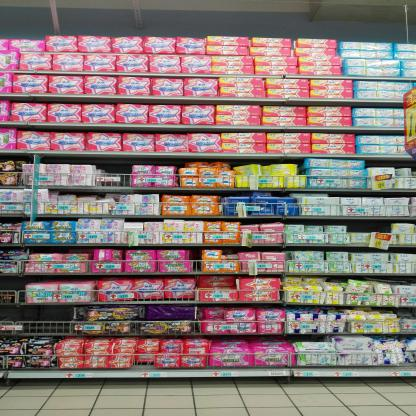Void: (6, 306, 68, 322), (349, 221, 387, 234), (367, 159, 415, 169), (28, 248, 95, 253), (104, 160, 127, 174), (299, 334, 327, 342), (328, 276, 347, 282), (6, 278, 24, 284), (191, 250, 200, 260)
